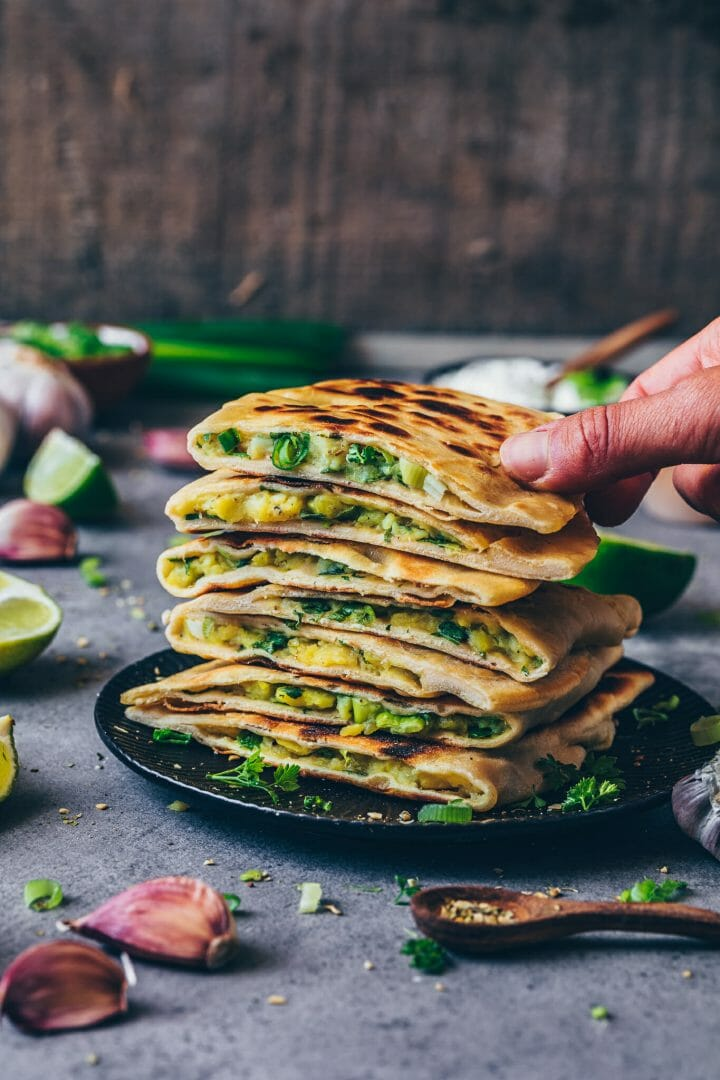aloo_paratha: (127, 372, 655, 821)
